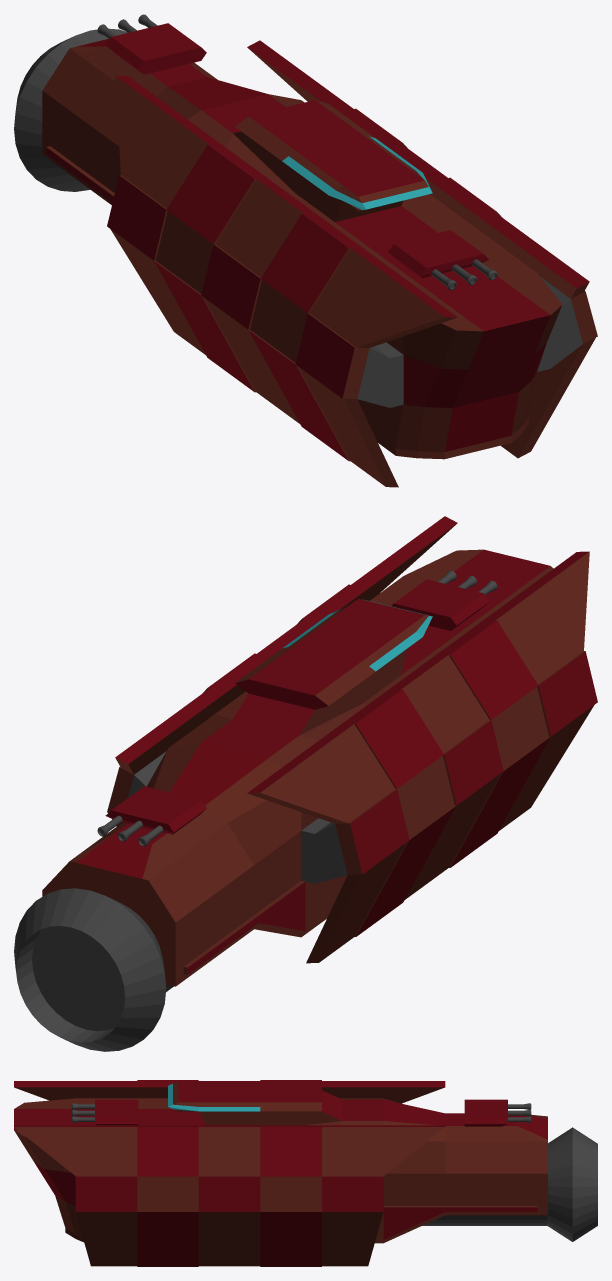
The model's file is Destroyer.fbx.
The picture shows the model from 3 angles, top to bottom: view 1: azimuth 30°, elevation 25°; view 2: azimuth 150°, elevation 25°; view 3: azimuth 270°, elevation 25°; orthographic projection. The views are drawn at different scales.
Visible parts, largest first — view 1: Cube, Cylinder, Cylinder.002, Cylinder.001; view 2: Cube, Cylinder, Cylinder.002, Cylinder.001; view 3: Cube, Cylinder, Cylinder.002, Cylinder.001.
Part boxes in pixels (x1,y1,x2,y2): Cube: (42,39,597,487); Cylinder: (14,28,127,191); Cylinder.002: (97,14,206,74); Cylinder.001: (388,230,497,290); Cube: (42,516,597,986); Cylinder: (14,888,173,1051); Cylinder.002: (97,786,206,846); Cylinder.001: (391,570,497,630); Cube: (14,1080,547,1266); Cylinder: (422,1127,597,1241); Cylinder.002: (464,1099,531,1126); Cylinder.001: (71,1099,138,1125).
Bounding box in the file's own units: 188 × 165 × 569.
